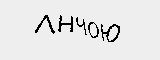Л: (31, 15, 56, 34)
Н: (56, 14, 76, 34)
О: (87, 17, 99, 41)
Ч: (74, 14, 86, 38)
Ю: (99, 22, 122, 43)
